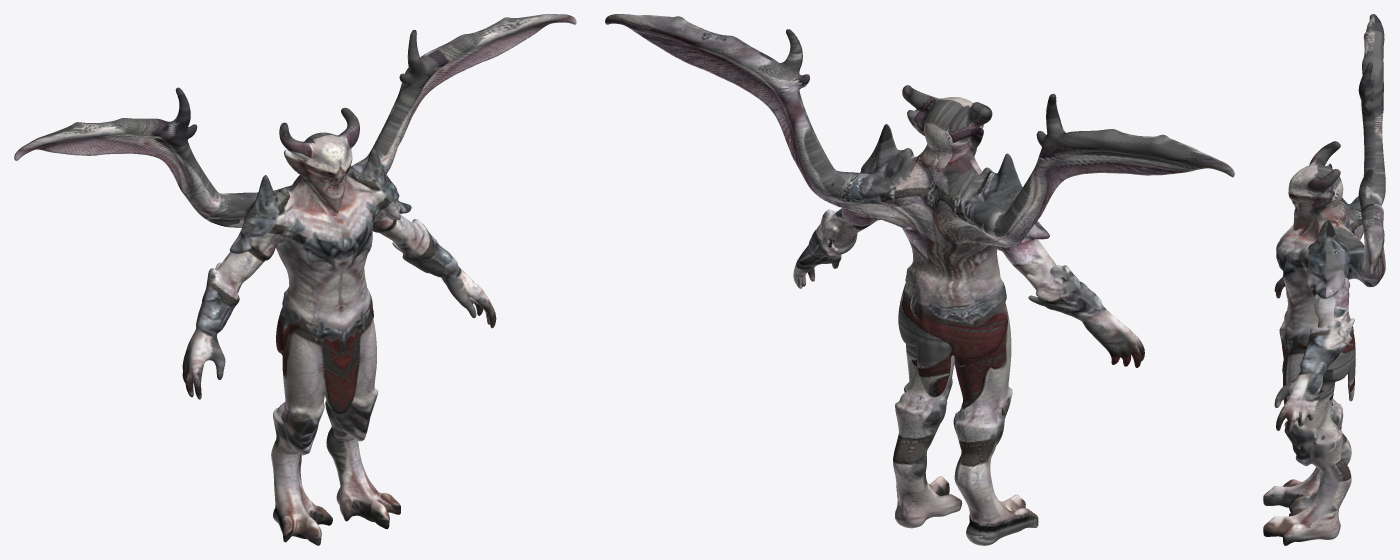
File: lord-falgravn-overview-v1.glb
3 views of the same model, side by side, from view 1: azimuth 30°, elevation 25°; view 2: azimuth 150°, elevation 25°; view 3: azimuth 270°, elevation 25° (orthographic). The views are drawn at different scales.
Parts seen in each view (by area): view 1: lord-falgravn; view 2: lord-falgravn; view 3: lord-falgravn.
Boxes of the visible parts, bbox=[...] form: lord-falgravn: bbox=[14, 14, 576, 545]; lord-falgravn: bbox=[605, 14, 1234, 545]; lord-falgravn: bbox=[1263, 14, 1385, 545].
Bounding box in the file's own units: 1.99 × 1.49 × 0.4057.
1 material, 1 textured.
